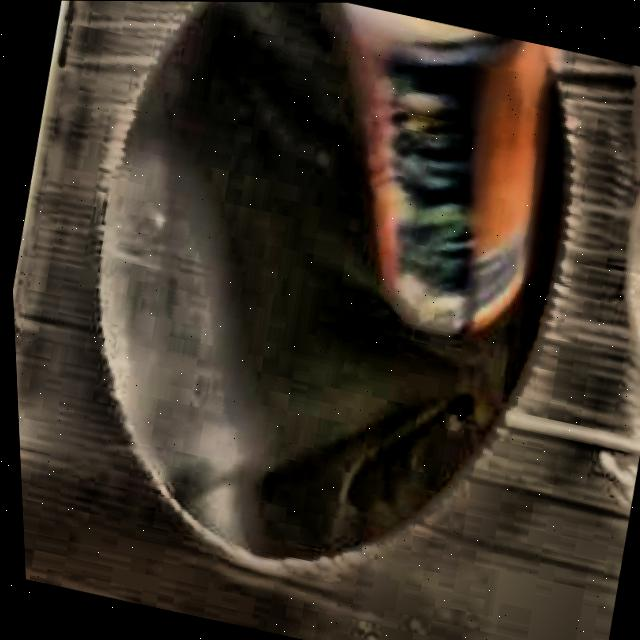metal: (347, 2, 554, 331)
